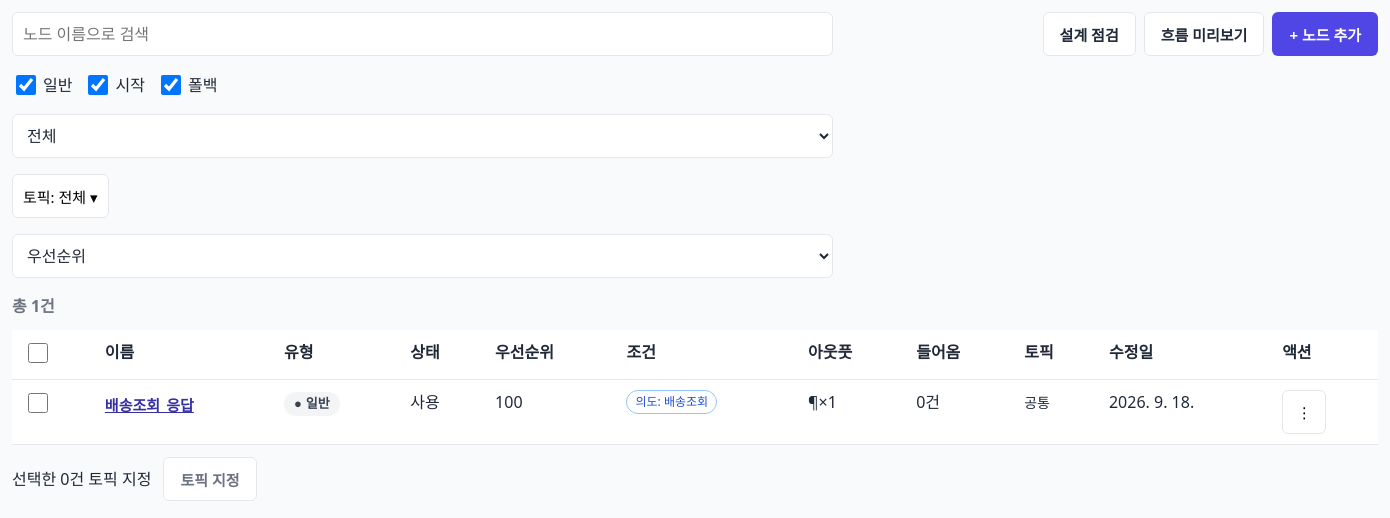
Test: NodesListPage(토픽 필터) — axe 접근성 스캔 › 필터 드롭다운을 연 상태에서도 구조적 접근성 위반이 없다
Check: the button "배송조회_응답" is shown, box [105, 390, 194, 419]
Click the button "토픽: 전체 ▾" at (60, 196), box [12, 174, 109, 218]
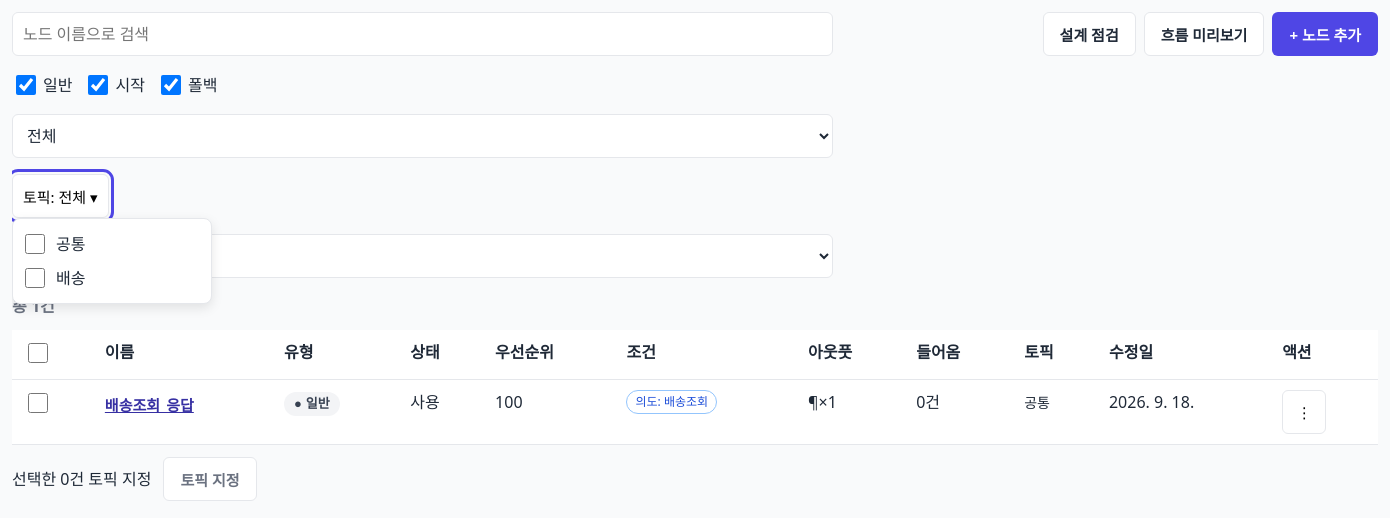
Check: the checkbox labelled "배송" is shown, box [25, 268, 45, 288]
